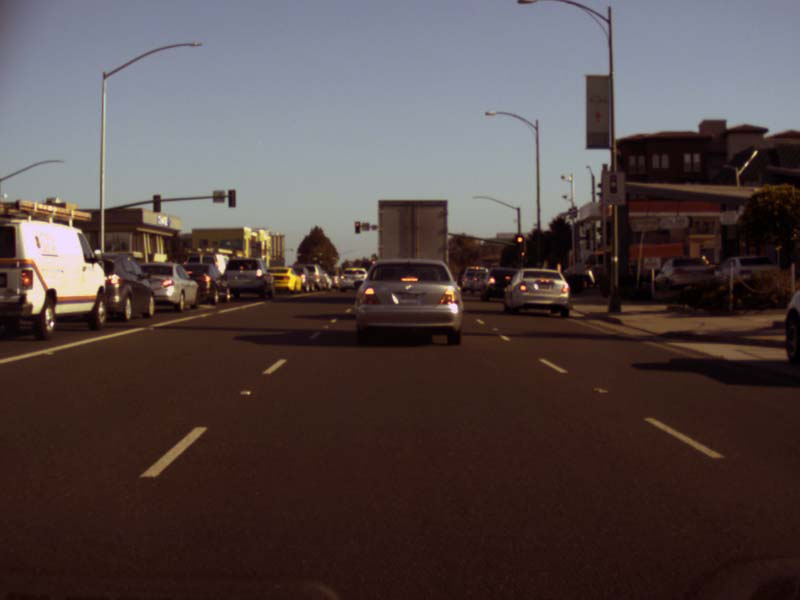Red: (515, 235, 523, 251), (354, 221, 360, 233), (520, 252, 525, 263)
